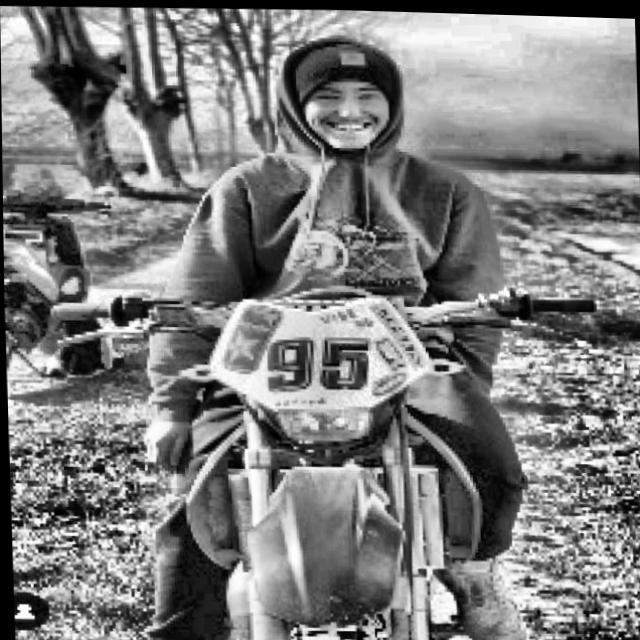motorcycle: (39, 260, 600, 640)
